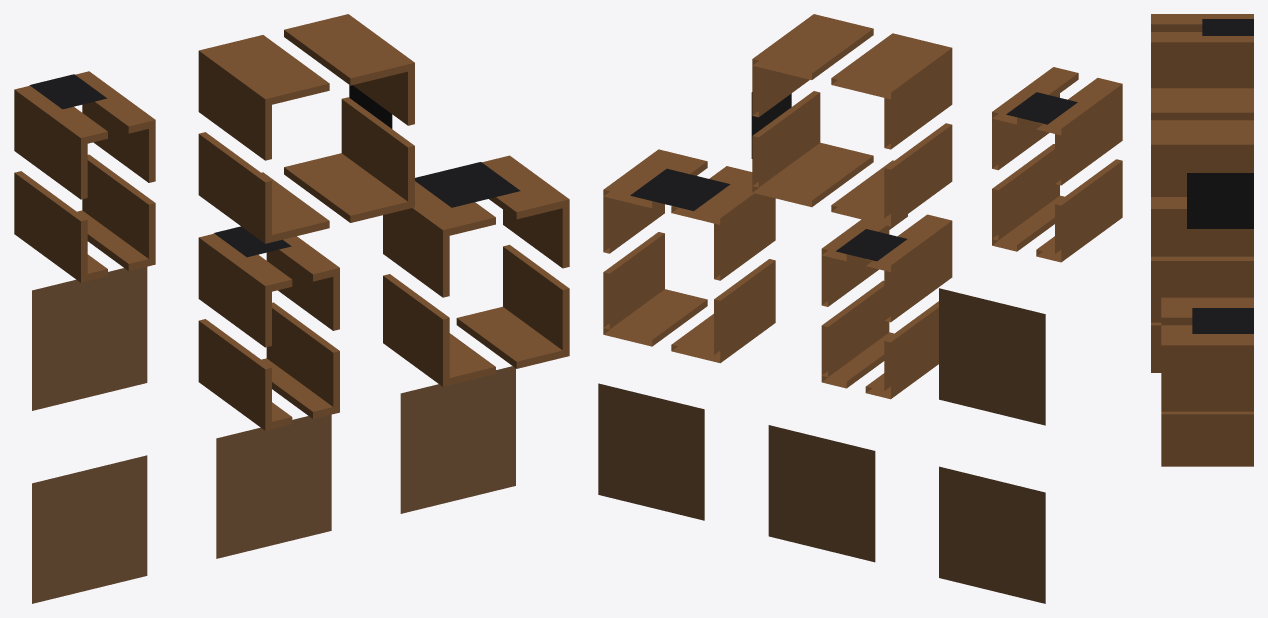
Rendered from construction_1.glb.
3 views of the same model, side by side, from view 1: azimuth 30°, elevation 25°; view 2: azimuth 150°, elevation 25°; view 3: azimuth 270°, elevation 25° (orthographic). The views are drawn at different scales.
Parts seen in each view (by area): view 1: t12_g11.001, t21_g13.001, t02_g12.001, t11_g12.001, t00_g15.001, t10_g14.001, t20_g14.001, t01_g15.001; view 2: t12_g11.001, t21_g13.001, t02_g12.001, t11_g12.001, t10_g14.001, t00_g15.001, t01_g15.001, t20_g14.001; view 3: t12_g11.001, t21_g13.001, t02_g12.001, t11_g12.001.
Part boxes in pixels (x1,y1,x2,y2): t12_g11.001: (198, 14, 414, 243); t21_g13.001: (383, 155, 569, 386); t02_g12.001: (14, 71, 155, 282); t11_g12.001: (198, 226, 339, 430); t00_g15.001: (32, 455, 147, 603); t10_g14.001: (216, 414, 331, 558); t20_g14.001: (400, 366, 515, 513); t01_g15.001: (32, 267, 147, 410); t12_g11.001: (751, 14, 952, 226); t21_g13.001: (603, 149, 775, 363); t02_g12.001: (992, 67, 1122, 262); t11_g12.001: (821, 214, 952, 399); t10_g14.001: (768, 425, 875, 562); t00_g15.001: (939, 466, 1045, 603); t01_g15.001: (939, 288, 1045, 425); t20_g14.001: (598, 383, 704, 520); t12_g11.001: (1151, 88, 1253, 256); t21_g13.001: (1161, 297, 1253, 466); t02_g12.001: (1151, 14, 1253, 88); t11_g12.001: (1151, 256, 1253, 372).
Bounding box in the file's own units: 43.5 × 43.06 × 10.
